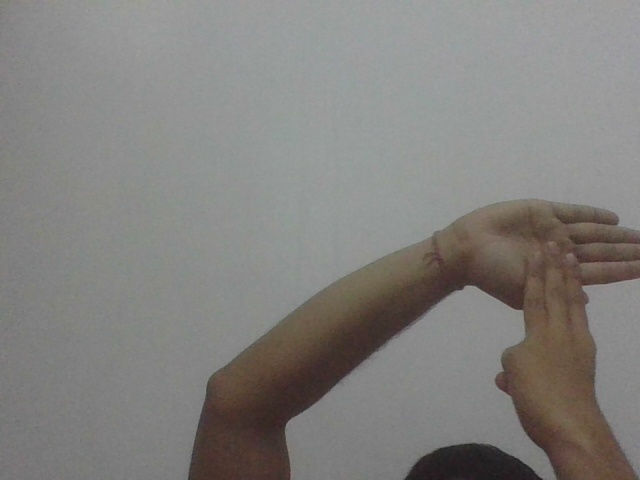M: (462, 197, 640, 366)
